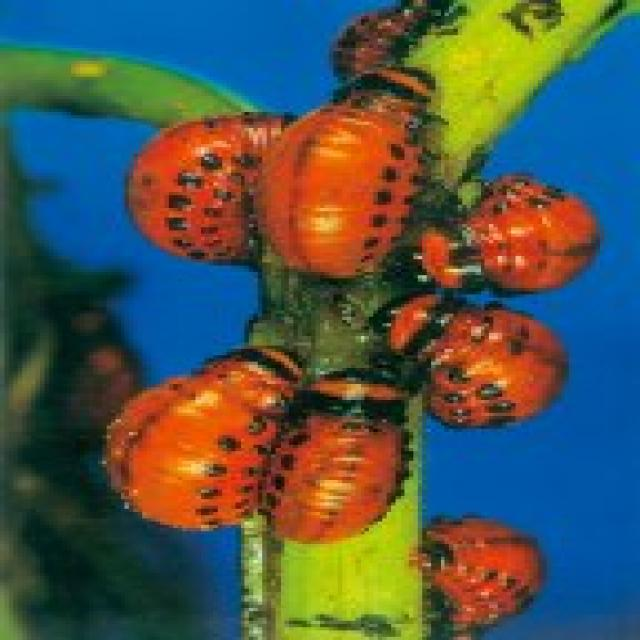ShuCaiHuaBanChong-Larva-: (101, 347, 318, 538), (261, 65, 431, 285), (263, 363, 450, 558), (378, 291, 586, 450), (109, 88, 279, 276), (453, 167, 606, 322), (409, 517, 550, 625)
